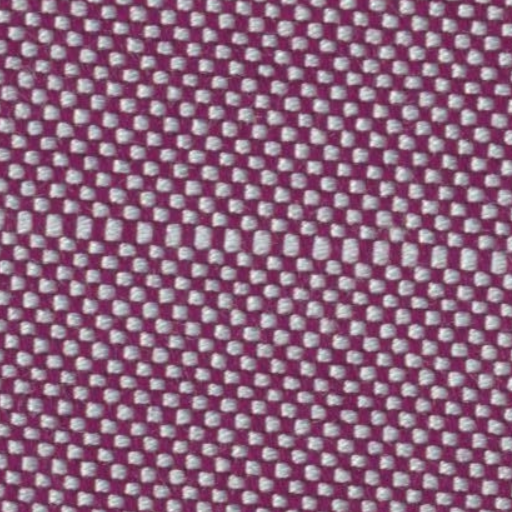TuoSha: (10, 186, 492, 310)
